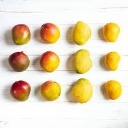mango: (71, 20, 92, 45)
